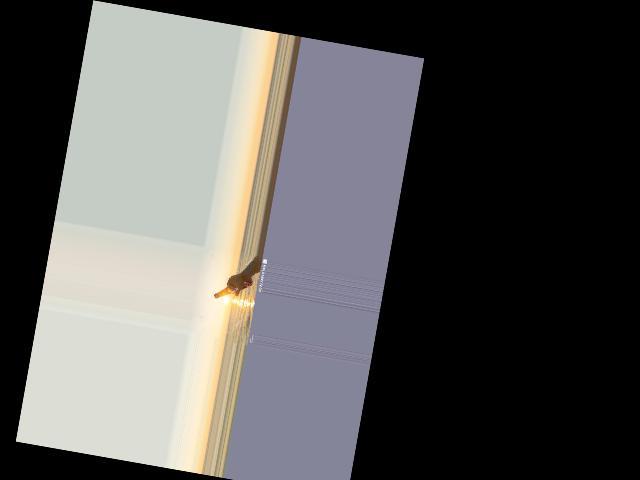beer: (213, 271, 253, 304)
